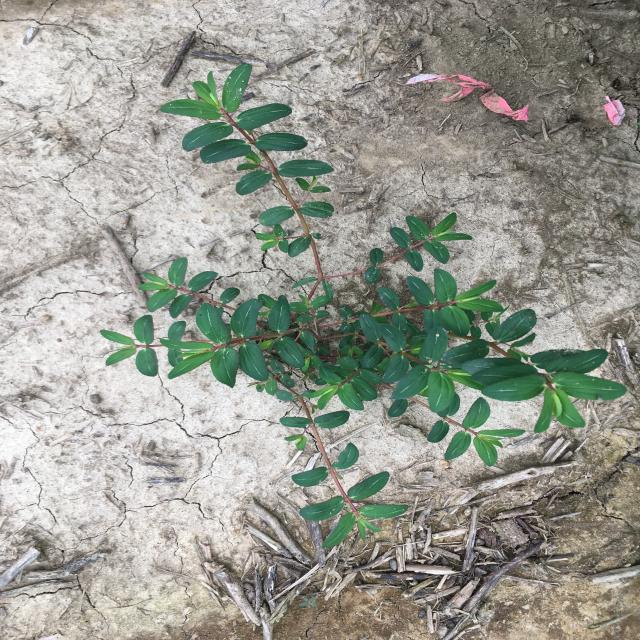SpottedSpurge: (100, 64, 628, 549)
